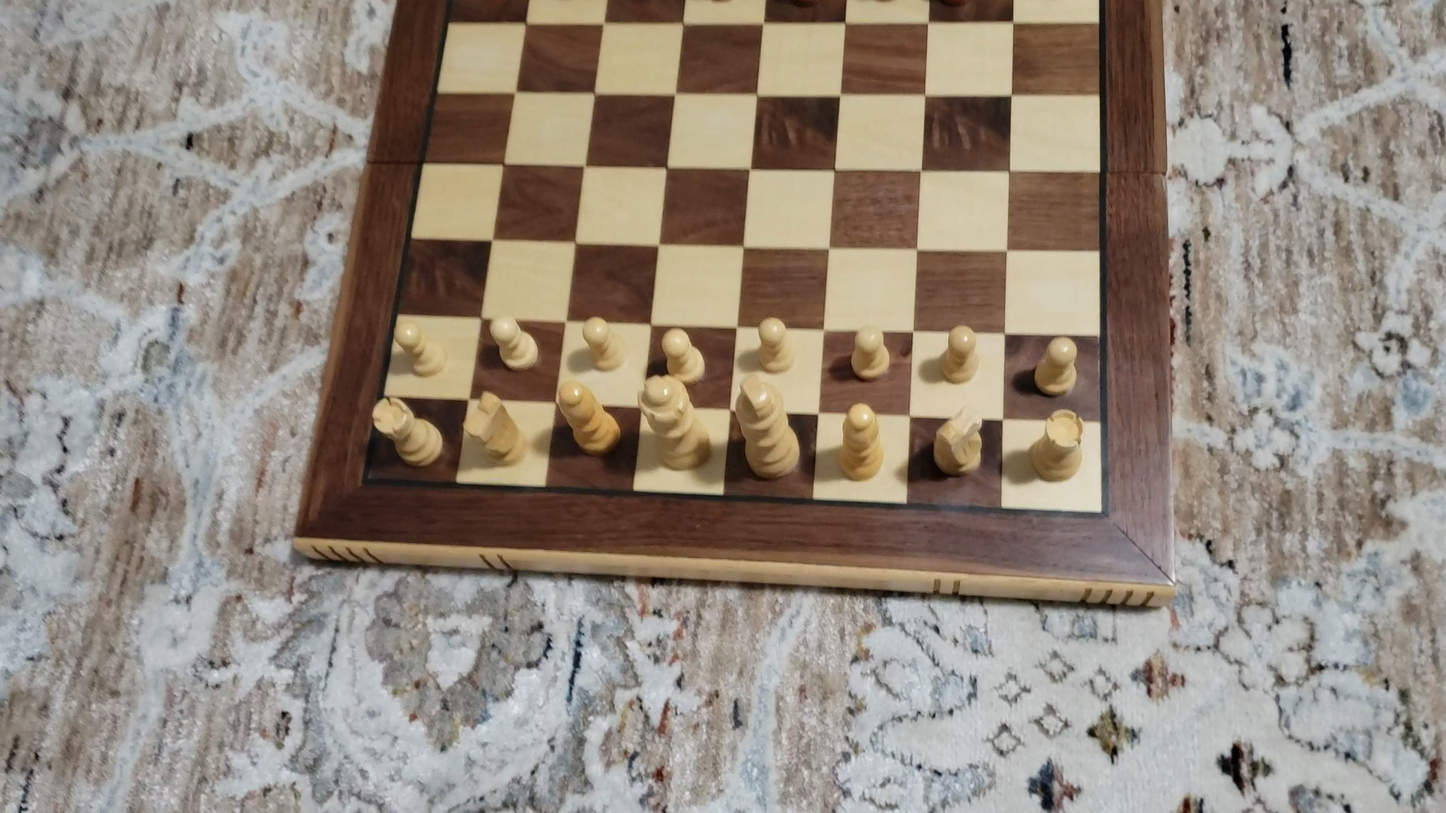white-bishop: (554, 381, 623, 458), (838, 399, 887, 485)
white-king: (733, 374, 803, 484)
white-knight: (462, 387, 529, 466), (927, 402, 988, 482)
white-pawn: (1029, 333, 1082, 401), (390, 319, 449, 380), (485, 313, 542, 374), (656, 324, 708, 388), (935, 320, 983, 387), (845, 322, 895, 385), (751, 312, 799, 377), (579, 312, 627, 374)
white-queen: (633, 374, 716, 475)
white-rook: (372, 394, 445, 470), (1026, 405, 1088, 485)
